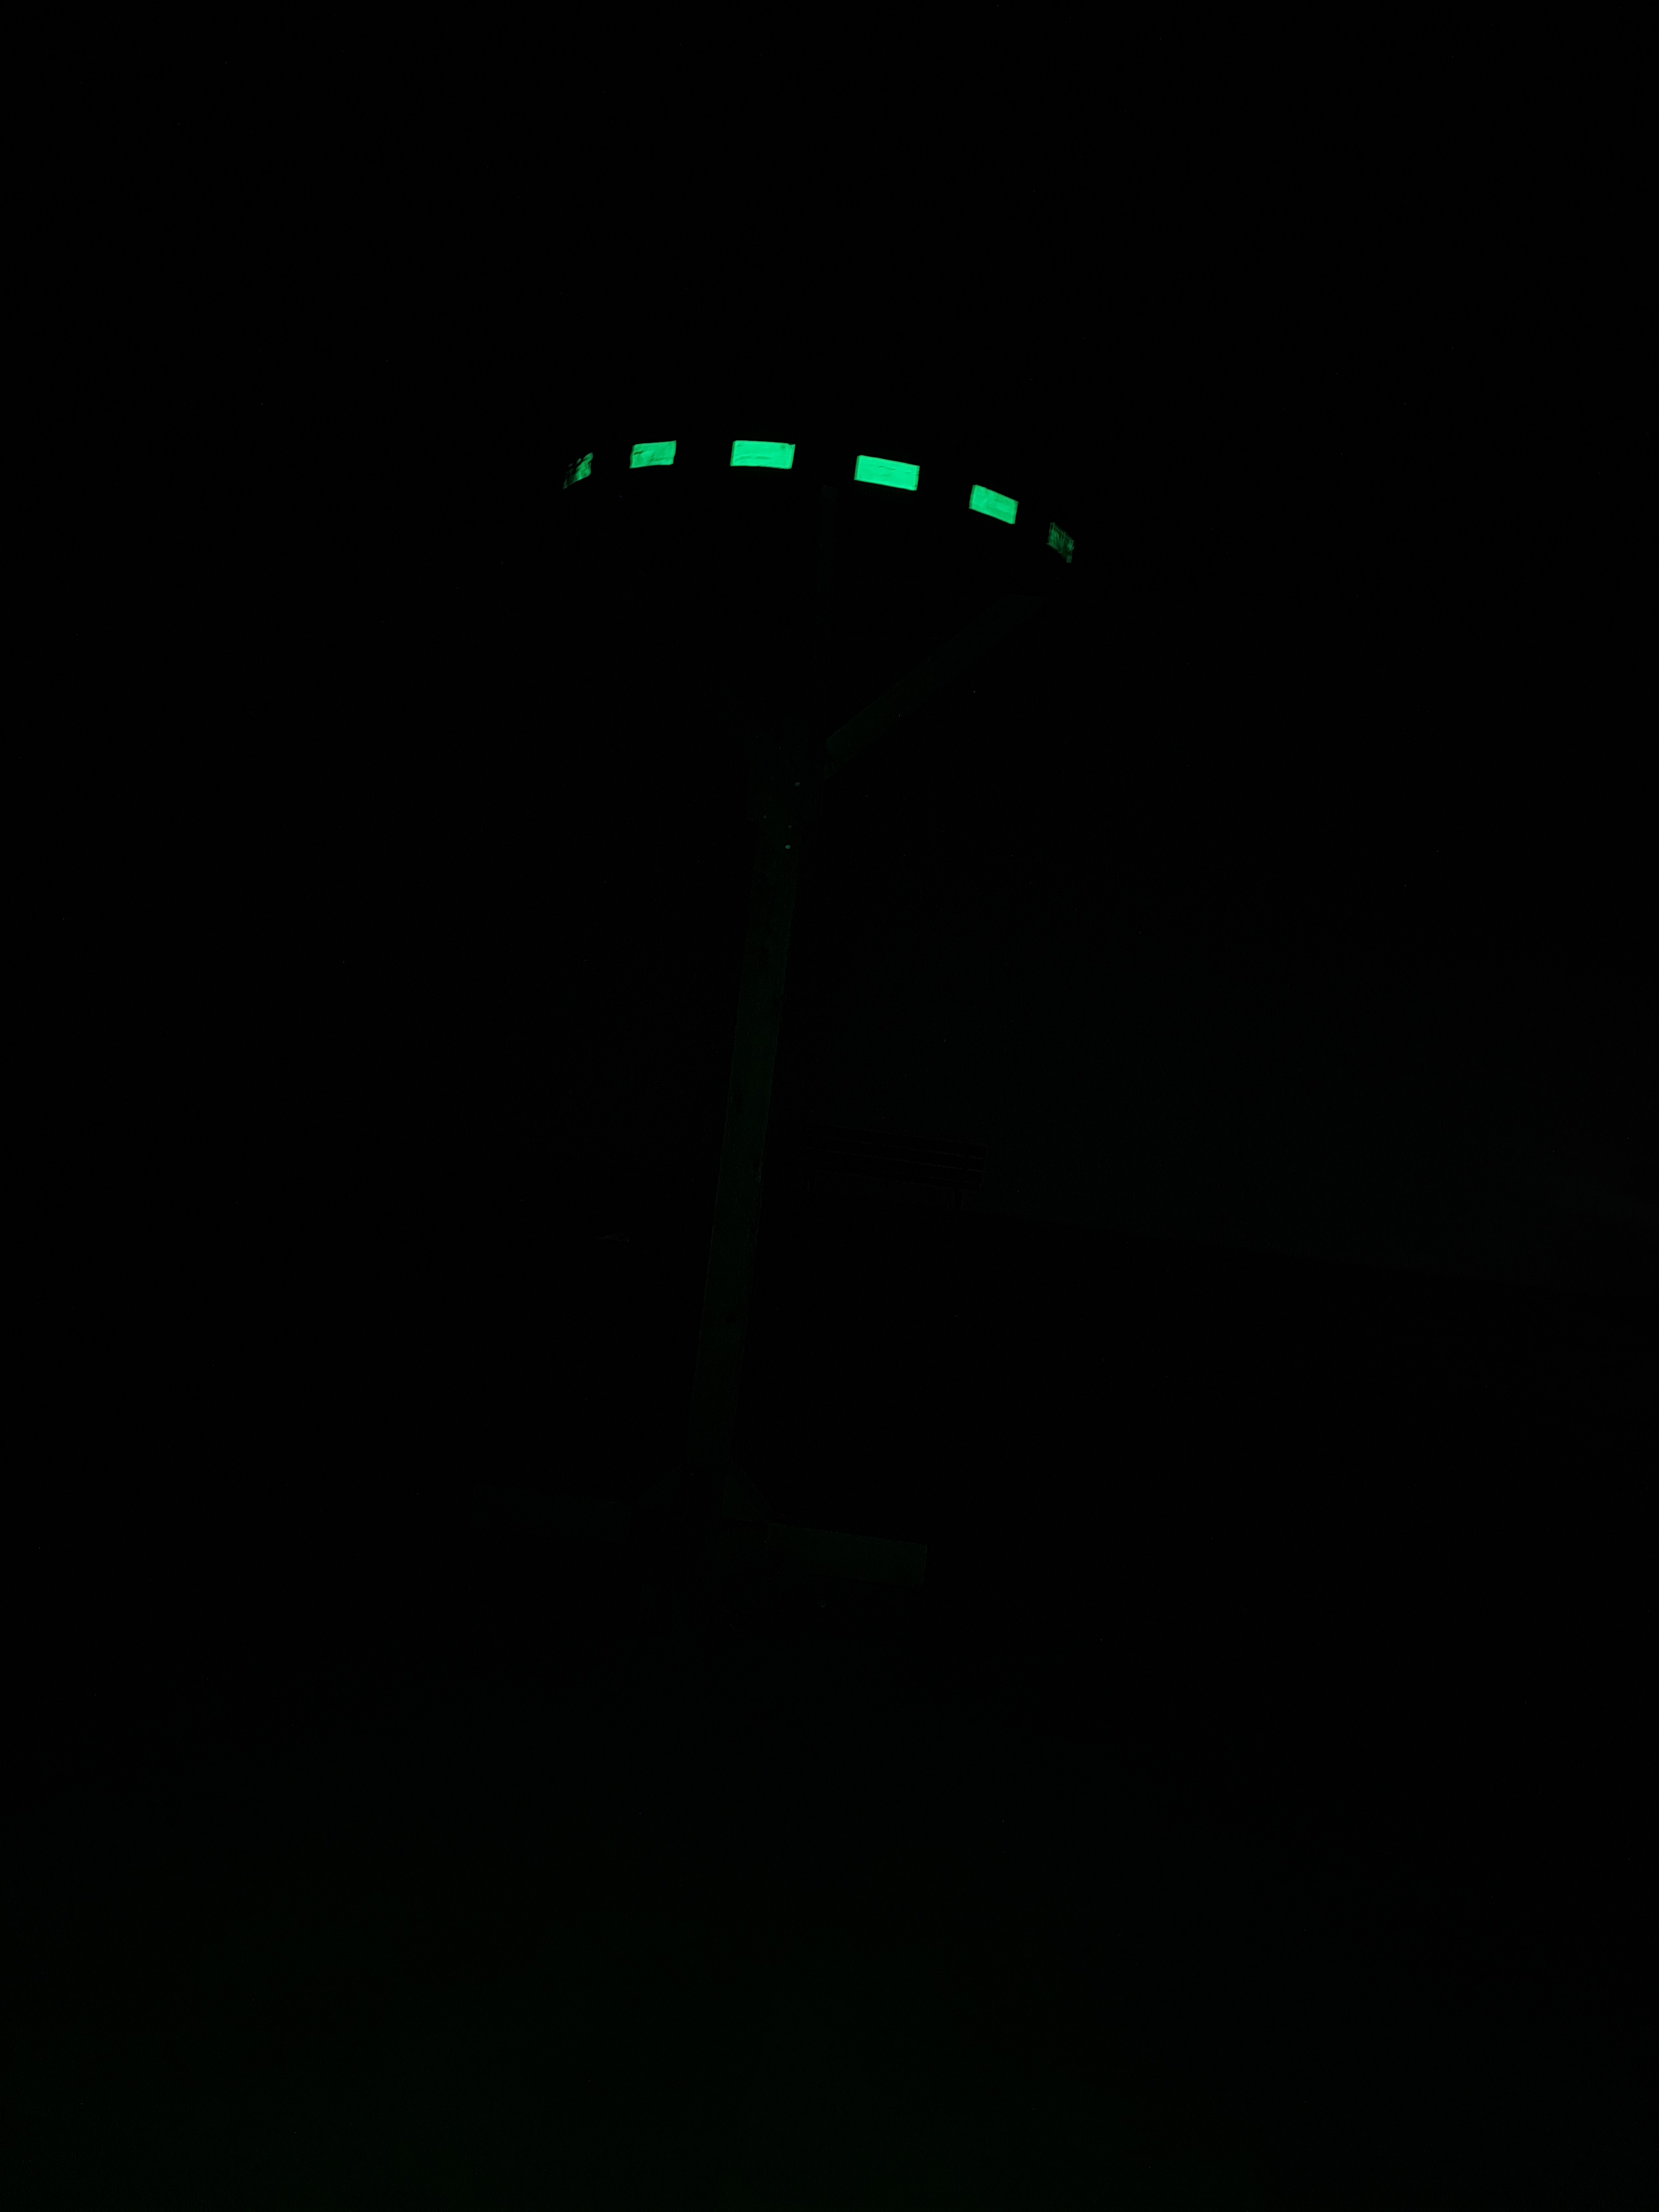hoop: (558, 425, 1080, 573)
